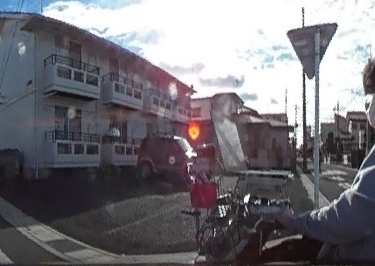person: (259, 54, 375, 261)
